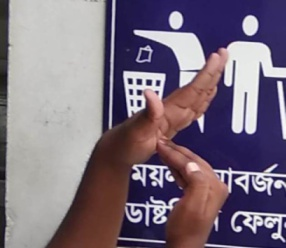ga: (107, 38, 228, 219)
